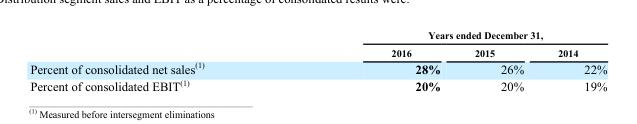table: (29, 28, 606, 93)
table column: (29, 28, 297, 93), (297, 28, 456, 93), (456, 28, 540, 93), (540, 28, 606, 93)
table column header: (29, 28, 606, 58)
table row: (29, 58, 606, 76), (29, 76, 606, 93), (29, 28, 606, 43), (29, 43, 606, 58)
table spanning cell: (297, 28, 606, 43)
